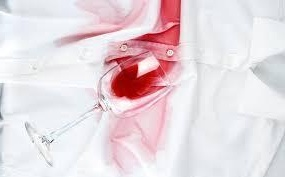wine: (113, 1, 186, 71), (106, 96, 165, 168), (71, 1, 135, 34)
